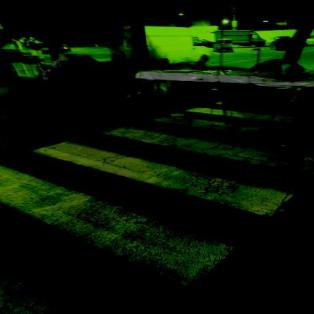Paso de Cebra: (25, 123, 309, 225)
